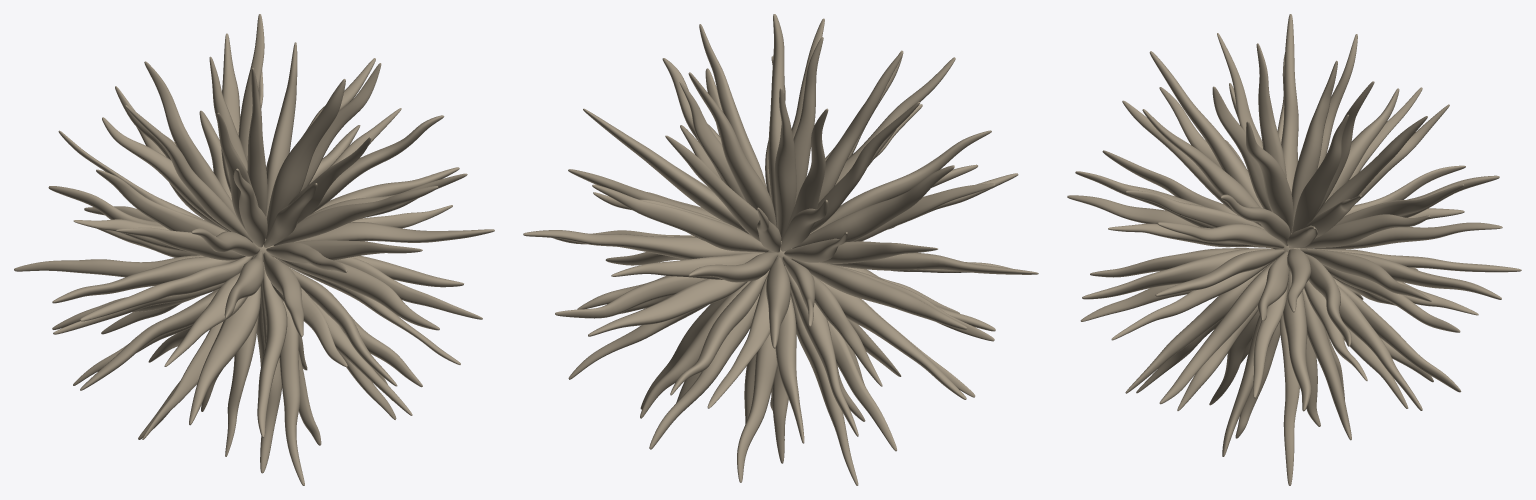
Rendered from Decoration 08 Sea Urchin.FBX.
The picture shows the model from 3 angles, left to right: view 1: azimuth 30°, elevation 25°; view 2: azimuth 150°, elevation 25°; view 3: azimuth 270°, elevation 25°; orthographic projection. The views are drawn at different scales.
Parts seen in each view (by area): view 1: Decoration 08 Sea Urchin; view 2: Decoration 08 Sea Urchin; view 3: Decoration 08 Sea Urchin.
Boxes of the visible parts, x1=… form: Decoration 08 Sea Urchin: x1=14, y1=14, x2=494, y2=485; Decoration 08 Sea Urchin: x1=523, y1=14, x2=1038, y2=485; Decoration 08 Sea Urchin: x1=1067, y1=14, x2=1521, y2=485.
Size of the model in its own units: 21.57 by 19.04 by 21.25.
